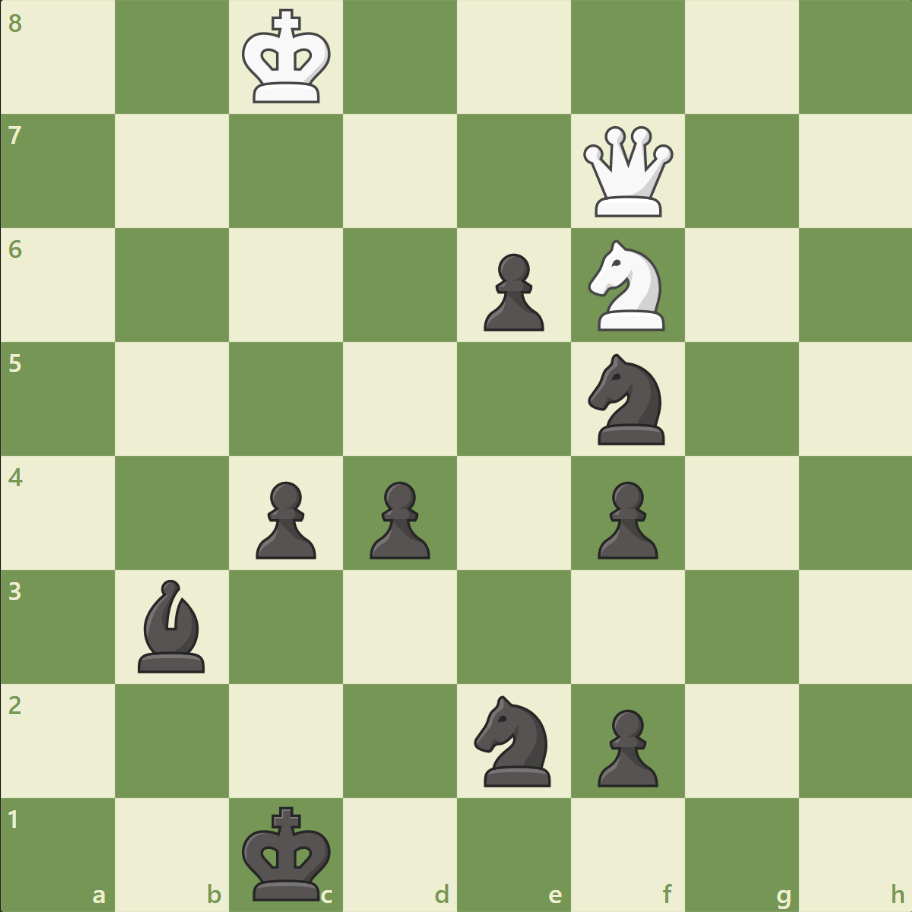K: (238, 4, 338, 112)
N: (579, 234, 676, 337)
Q: (578, 122, 677, 222)
b: (131, 574, 215, 676)
k: (238, 798, 338, 906)
n: (465, 688, 562, 791), (579, 348, 676, 450)
p: (474, 246, 549, 337), (247, 473, 322, 564), (361, 473, 435, 564), (588, 473, 662, 564), (588, 700, 662, 791)
